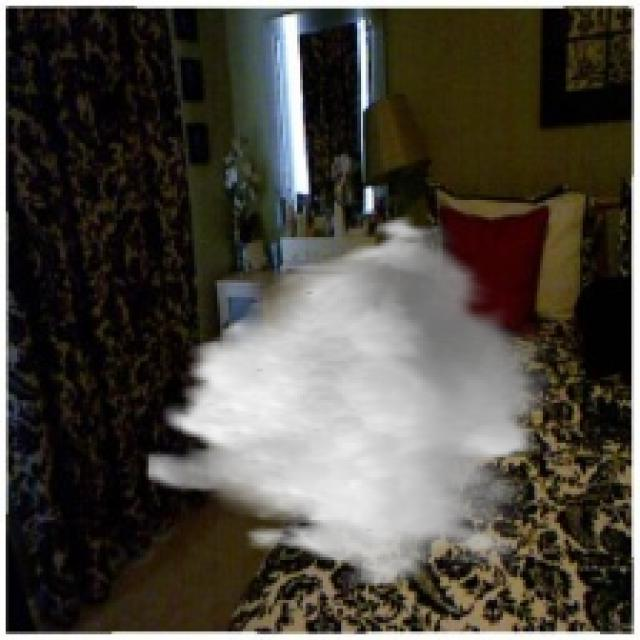smoke: (146, 208, 551, 586)
